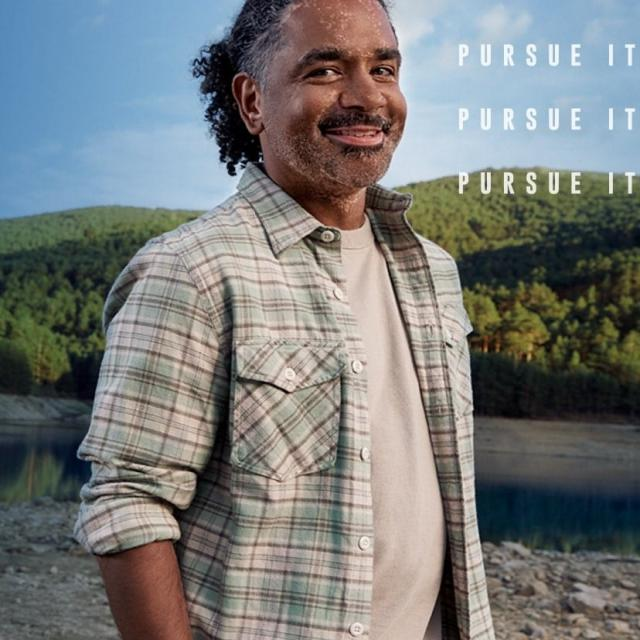vitiligo: (264, 17, 397, 214)
